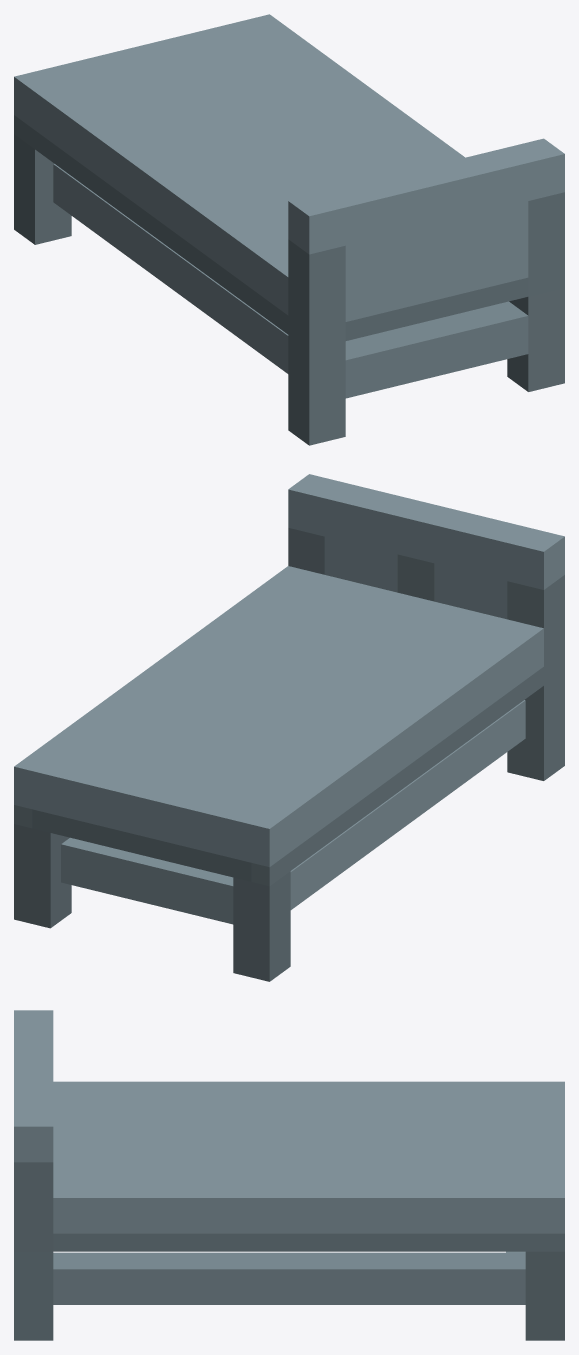
File: banco_carpintero_ribera_desgastado_01.glb
3 renders of one model, top to bottom at view 1: azimuth 30°, elevation 25°; view 2: azimuth 150°, elevation 25°; view 3: azimuth 270°, elevation 25°, orthographic. The views are drawn at different scales.
Parts seen in each view (by area): view 1: banco_carpintero_ribera_desgastado; view 2: banco_carpintero_ribera_desgastado; view 3: banco_carpintero_ribera_desgastado.
Part boxes in pixels (x1=…): banco_carpintero_ribera_desgastado: x1=14, y1=14, x2=564, y2=445; banco_carpintero_ribera_desgastado: x1=14, y1=474, x2=564, y2=981; banco_carpintero_ribera_desgastado: x1=14, y1=1010, x2=564, y2=1340.
Size of the model in its own units: 1 by 0.8571 by 2.
